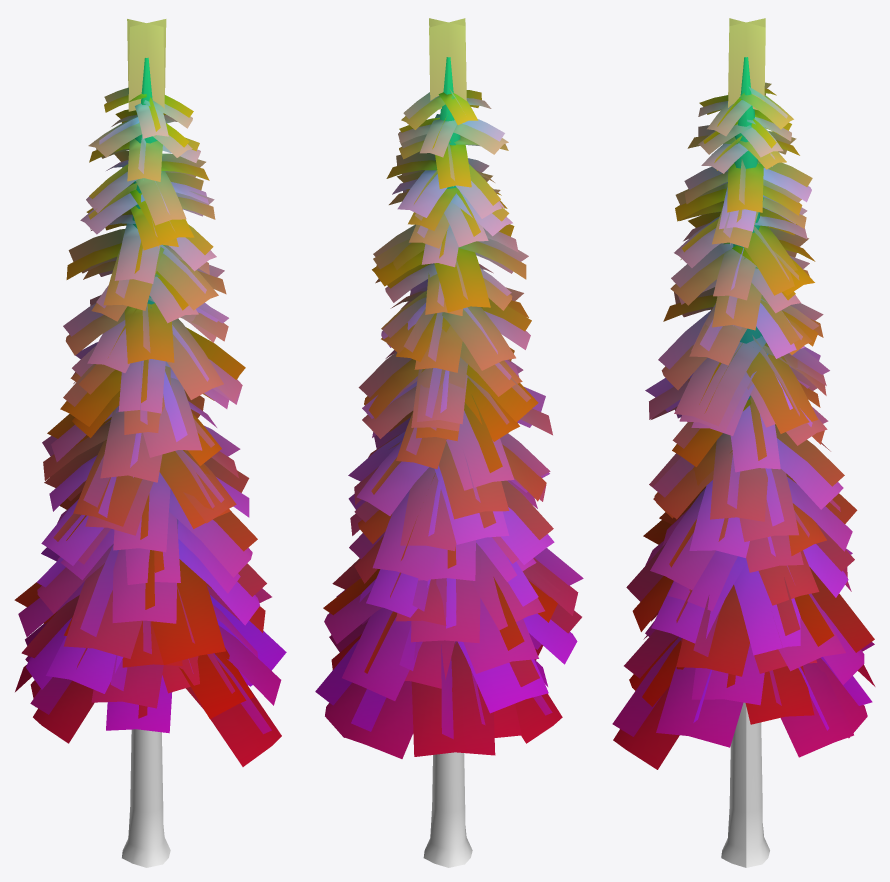
Rendered from SM_Tree_Pine_02.fbx.
3 renders of one model, left to right at view 1: azimuth 30°, elevation 25°; view 2: azimuth 150°, elevation 25°; view 3: azimuth 270°, elevation 25°, orthographic.
Parts seen in each view (by area): view 1: SM_Tree_Pine_02_LOD0; view 2: SM_Tree_Pine_02_LOD0; view 3: SM_Tree_Pine_02_LOD0.
Boxes of the visible parts, x1,y1,x2,y2 form: SM_Tree_Pine_02_LOD0: (14,19,286,867); SM_Tree_Pine_02_LOD0: (315,18,583,867); SM_Tree_Pine_02_LOD0: (612,18,875,867).
Size of what is drawn, in the model's own units: 5.59 by 19.71 by 5.64.
